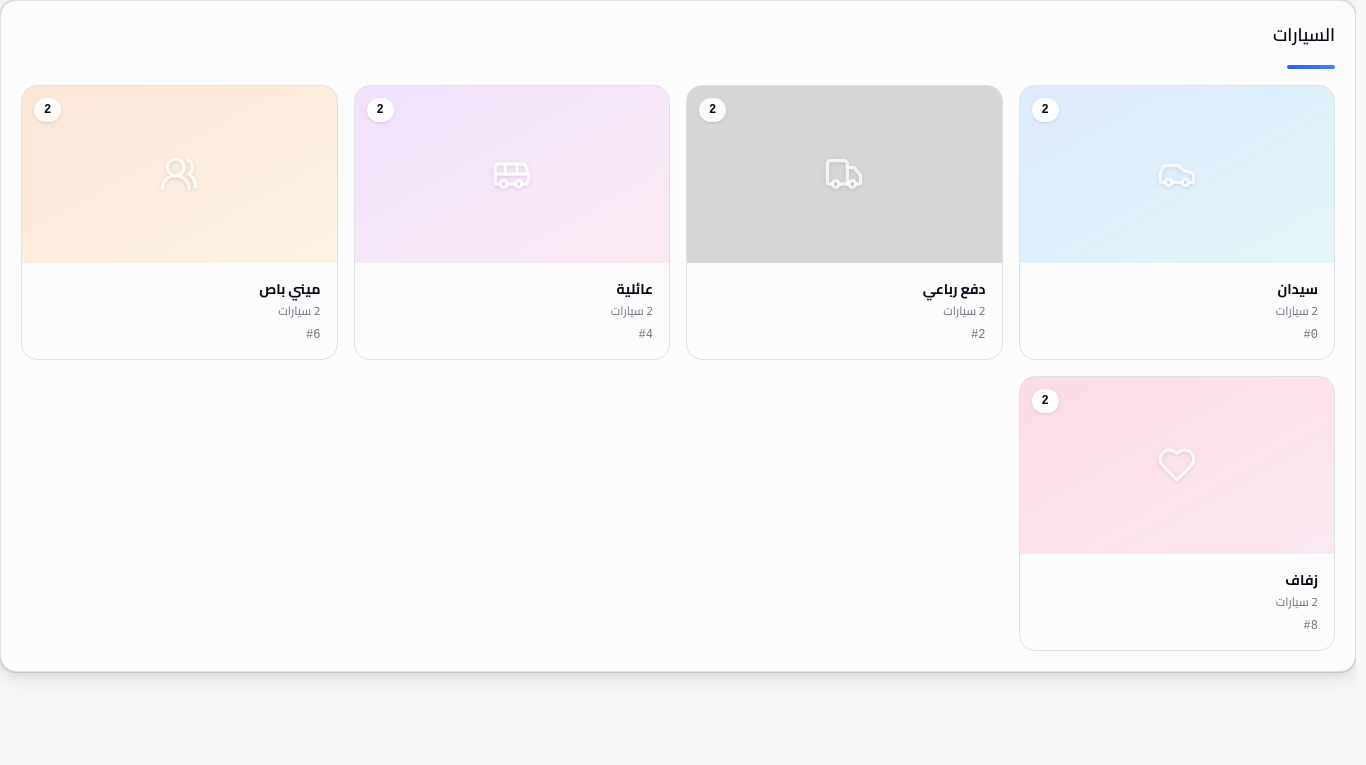
Test: CarAdmin fleet big-categories contract › click back returns to grid with 5 cards
Expected: the button with test id "category-card-sedan" is shown, [1018,85,1335,360]
Click the button with test id "category-card-suv".
click(844, 222)  # box [686,85,1002,360]
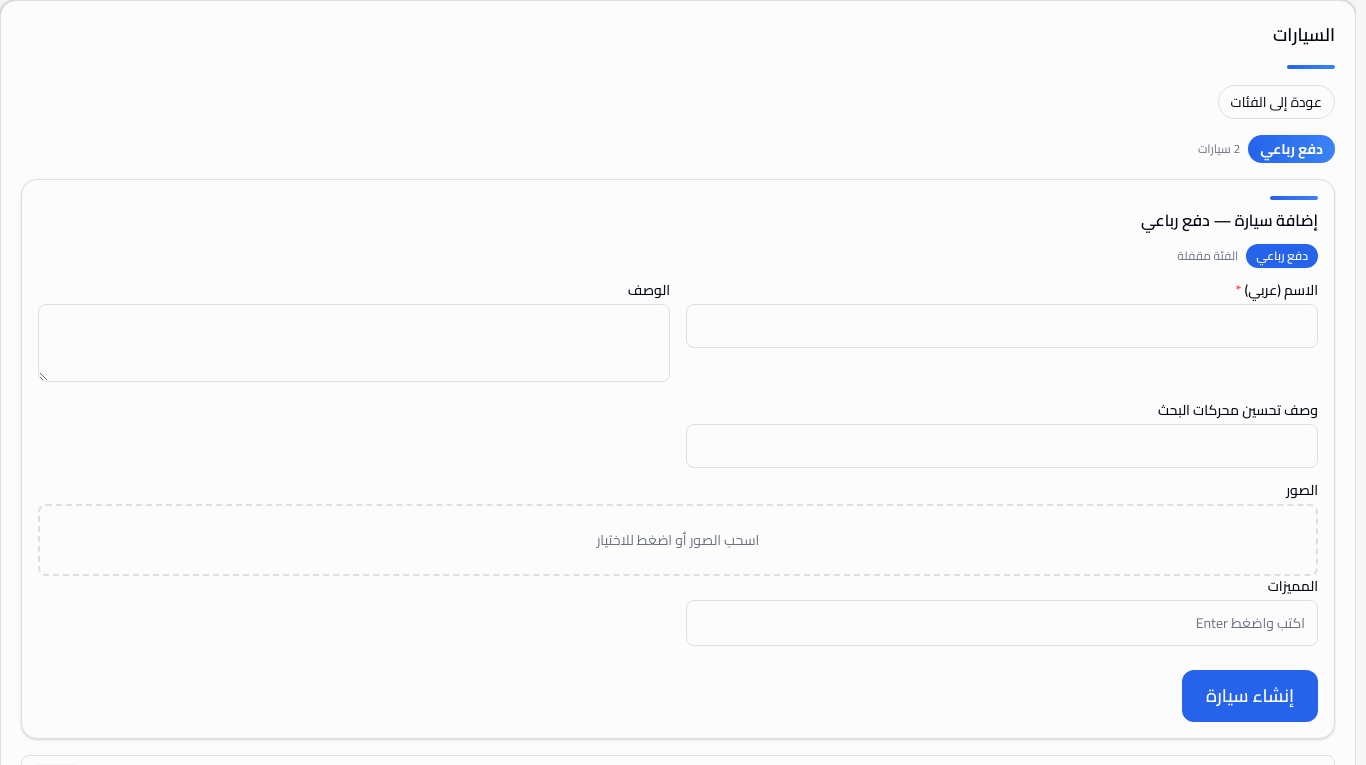
Click the button with test id "category-back".
click(1276, 102)  # box [1218,85,1335,119]
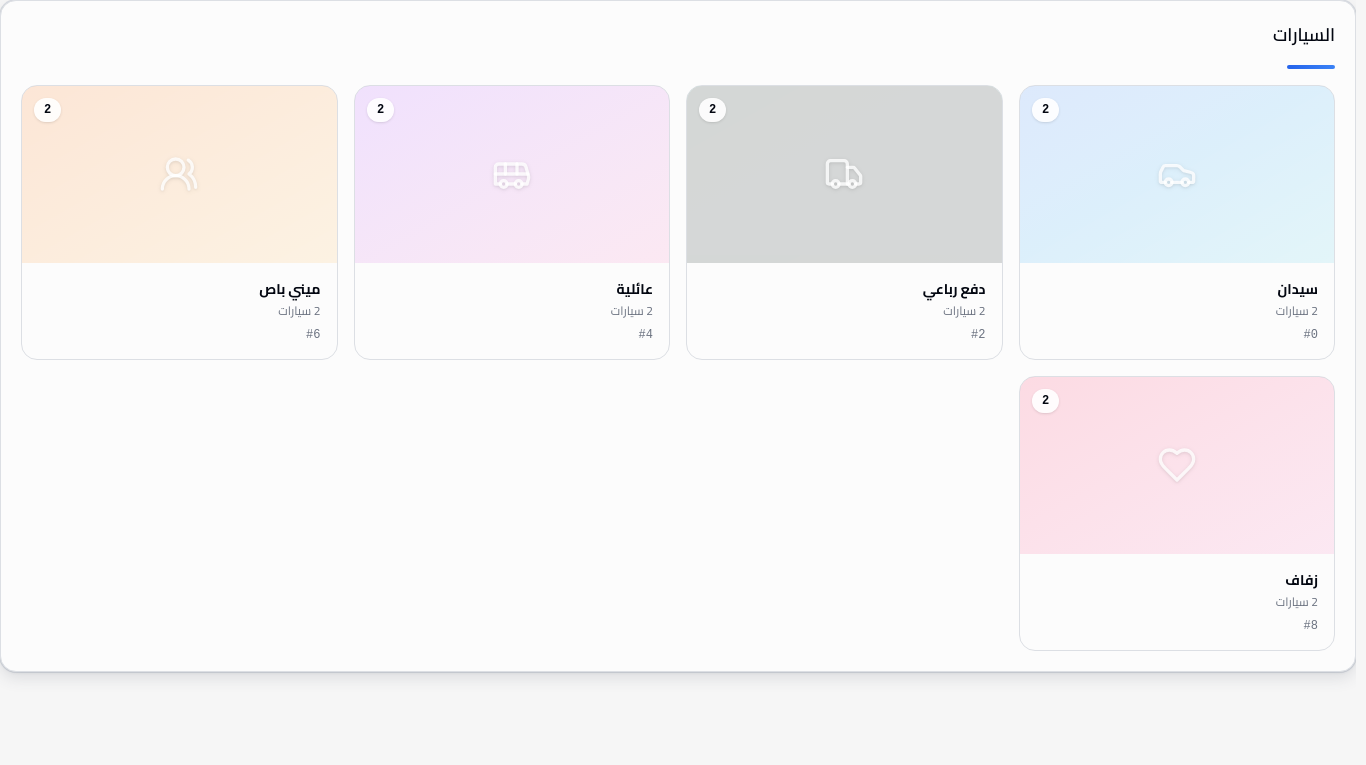
Expected: the element with test id "category-grid" is shown
